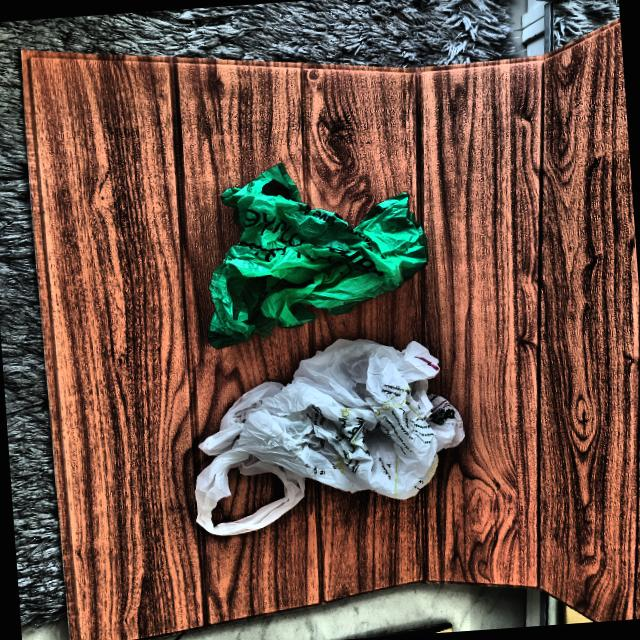plastic bag: (196, 331, 474, 548), (185, 148, 434, 348)
